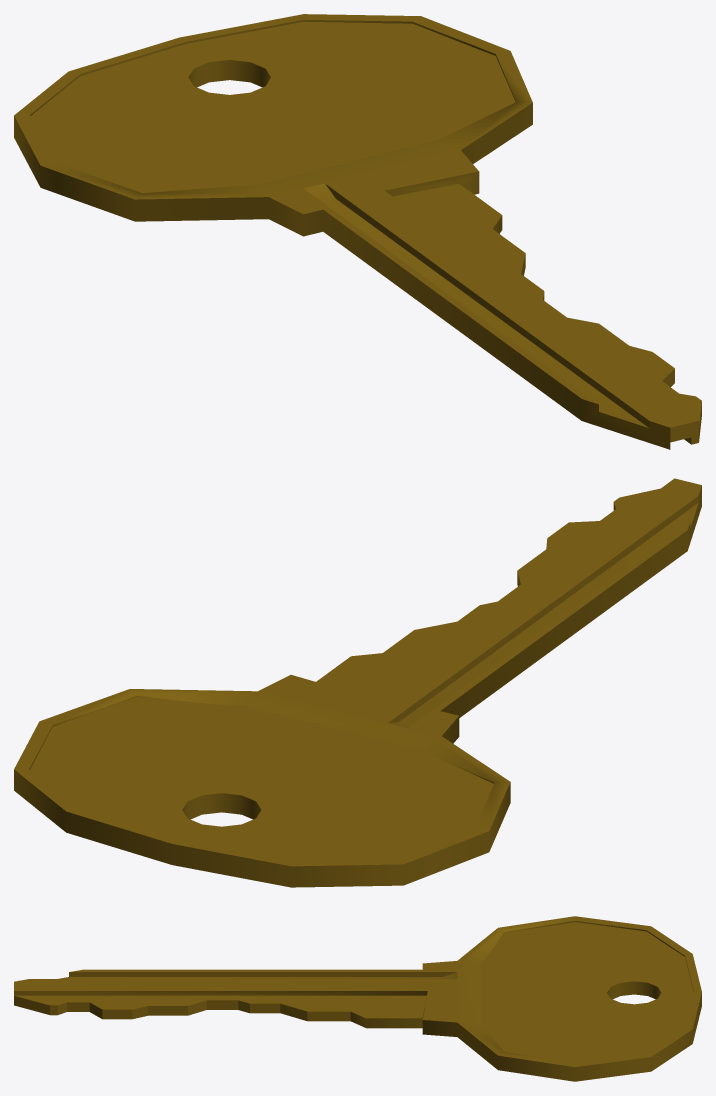
File: modern_key.fbx
3 renders of one model, top to bottom at view 1: azimuth 30°, elevation 25°; view 2: azimuth 150°, elevation 25°; view 3: azimuth 270°, elevation 25°, orthographic. The views are drawn at different scales.
Visible parts, largest first — view 1: Key; view 2: Key; view 3: Key.
Part boxes in pixels (x1=…): Key: x1=14, y1=14, x2=701, y2=449; Key: x1=14, y1=478, x2=701, y2=887; Key: x1=14, y1=916, x2=701, y2=1081.
Bounding box in the file's own units: 4.59 × 0.2066 × 8.84.
Materials: 1 (1 with a texture image).
